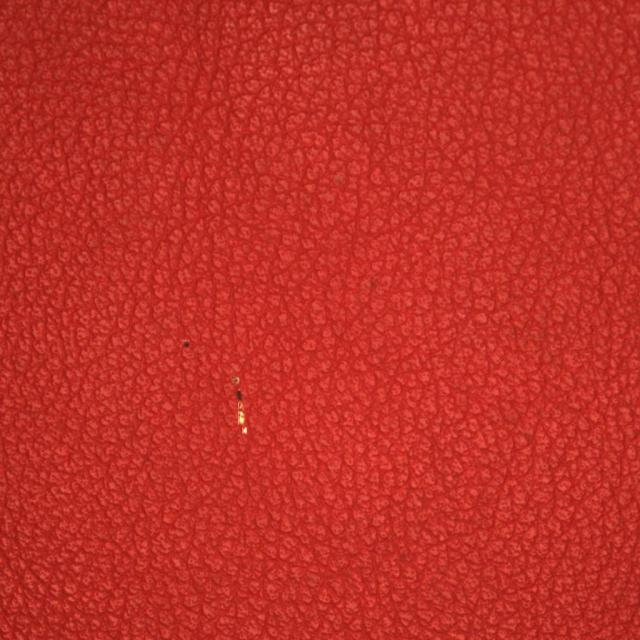Scratch: (169, 319, 310, 519)
